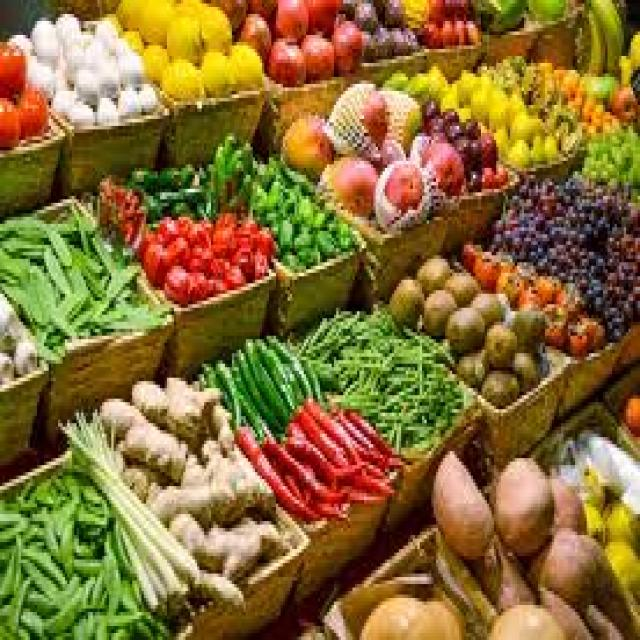organic waste: (0, 462, 174, 636), (283, 297, 461, 444), (56, 402, 200, 577), (0, 195, 162, 346), (489, 192, 626, 332), (74, 444, 186, 598), (536, 524, 638, 636), (92, 388, 186, 479), (426, 444, 492, 553), (234, 427, 316, 514), (517, 168, 631, 227), (489, 454, 552, 552), (327, 395, 399, 469), (596, 200, 638, 318), (252, 423, 318, 490), (234, 342, 285, 427), (121, 521, 167, 609), (244, 332, 288, 423), (225, 343, 269, 430), (327, 77, 385, 143), (533, 574, 594, 636), (580, 122, 638, 186), (316, 154, 374, 217), (359, 591, 438, 637), (276, 412, 332, 476), (381, 154, 432, 220), (281, 105, 329, 175), (304, 395, 350, 465), (478, 535, 526, 602), (294, 399, 341, 465), (146, 476, 209, 524), (209, 130, 248, 207), (97, 175, 144, 238), (600, 535, 638, 612), (251, 332, 292, 402), (487, 602, 568, 636), (376, 84, 417, 150), (341, 398, 389, 454), (269, 328, 306, 398), (142, 213, 186, 270), (164, 388, 208, 444), (415, 136, 459, 189), (214, 349, 244, 426), (141, 546, 174, 612), (598, 500, 638, 553), (589, 0, 619, 70), (162, 10, 204, 60), (325, 462, 392, 493), (14, 80, 49, 136), (236, 10, 274, 60), (223, 38, 264, 84), (427, 588, 466, 636), (162, 259, 206, 301), (197, 570, 244, 609), (204, 388, 234, 448), (127, 378, 167, 423), (330, 10, 360, 70), (443, 304, 485, 346), (178, 210, 214, 259), (134, 0, 174, 42), (318, 472, 385, 497), (160, 56, 204, 94), (390, 273, 424, 322), (197, 42, 234, 87), (266, 31, 302, 77), (580, 7, 605, 73), (169, 507, 202, 556), (422, 283, 457, 329), (578, 458, 619, 497), (230, 444, 255, 507), (508, 297, 540, 346), (473, 0, 529, 28), (582, 602, 628, 636), (299, 21, 329, 73), (225, 518, 262, 560), (230, 213, 269, 252), (197, 0, 245, 31), (508, 343, 547, 381), (121, 455, 160, 493), (278, 185, 316, 224), (297, 343, 322, 402), (302, 486, 343, 521), (0, 38, 23, 98), (304, 0, 343, 35), (276, 164, 318, 196), (202, 256, 241, 290), (605, 80, 638, 119), (30, 14, 56, 63), (484, 318, 514, 360), (529, 59, 561, 98), (616, 28, 638, 84), (276, 346, 301, 395), (252, 510, 280, 552), (9, 325, 37, 367), (0, 88, 21, 144), (418, 248, 448, 287), (0, 290, 19, 350), (174, 451, 206, 486), (274, 0, 306, 35), (46, 0, 111, 17), (341, 0, 376, 31), (56, 7, 78, 56), (162, 371, 206, 395), (464, 287, 498, 318), (234, 245, 264, 280), (352, 448, 388, 476), (250, 465, 274, 507), (200, 524, 228, 560), (252, 150, 280, 186), (480, 371, 517, 398), (211, 206, 232, 252), (388, 21, 418, 52), (362, 21, 392, 52), (142, 42, 172, 73), (445, 270, 478, 298), (90, 14, 114, 52), (484, 84, 508, 122), (468, 245, 494, 280), (580, 500, 603, 539), (74, 56, 95, 98), (543, 304, 568, 339), (28, 59, 58, 88), (114, 84, 142, 115), (404, 63, 432, 94), (550, 105, 578, 136), (51, 80, 77, 112), (313, 220, 339, 252), (512, 283, 545, 308), (116, 45, 137, 84), (95, 56, 118, 91), (262, 172, 281, 214), (492, 266, 520, 294), (246, 0, 274, 28), (476, 129, 496, 168), (216, 546, 241, 577), (155, 157, 181, 185), (111, 0, 137, 28), (457, 350, 487, 374), (134, 80, 156, 112), (457, 238, 482, 266), (200, 353, 220, 388), (128, 164, 156, 189), (559, 122, 584, 150), (622, 388, 638, 430), (274, 206, 290, 248), (401, 0, 429, 24), (526, 0, 565, 17), (468, 88, 487, 122), (580, 311, 603, 339), (7, 28, 30, 56), (374, 0, 404, 21), (566, 315, 586, 346), (92, 91, 114, 119), (136, 189, 158, 217), (506, 108, 528, 136), (383, 63, 408, 87), (438, 0, 473, 17), (591, 63, 610, 94), (292, 238, 313, 266), (455, 129, 473, 161), (559, 283, 582, 308), (459, 66, 478, 95), (514, 255, 536, 280), (536, 269, 558, 294), (67, 98, 93, 119), (446, 74, 462, 108), (429, 56, 443, 94), (424, 112, 446, 136), (156, 182, 178, 206), (192, 434, 218, 454), (281, 242, 299, 270), (506, 136, 528, 158), (120, 24, 142, 46), (418, 21, 440, 42), (0, 346, 14, 378), (250, 178, 264, 210), (506, 84, 522, 112), (492, 119, 508, 147), (288, 220, 308, 242), (179, 182, 204, 199), (174, 0, 204, 14), (548, 66, 564, 91), (420, 94, 438, 116), (559, 66, 577, 88), (329, 220, 350, 238), (457, 98, 475, 119), (170, 192, 186, 214), (109, 31, 123, 56), (528, 133, 542, 157), (591, 98, 603, 126), (459, 112, 478, 129), (76, 24, 90, 46), (531, 108, 543, 133), (440, 17, 454, 38), (58, 59, 74, 77), (278, 518, 292, 538), (543, 129, 554, 154), (478, 63, 494, 80), (463, 164, 478, 182), (463, 21, 478, 38), (441, 105, 459, 119), (452, 17, 462, 42), (561, 95, 580, 108), (313, 363, 329, 378), (426, 0, 440, 17), (179, 154, 190, 175), (473, 136, 482, 161), (582, 94, 591, 119), (480, 164, 492, 182), (445, 119, 457, 136), (577, 70, 589, 87), (536, 59, 554, 70), (494, 248, 510, 259), (490, 168, 506, 178)
